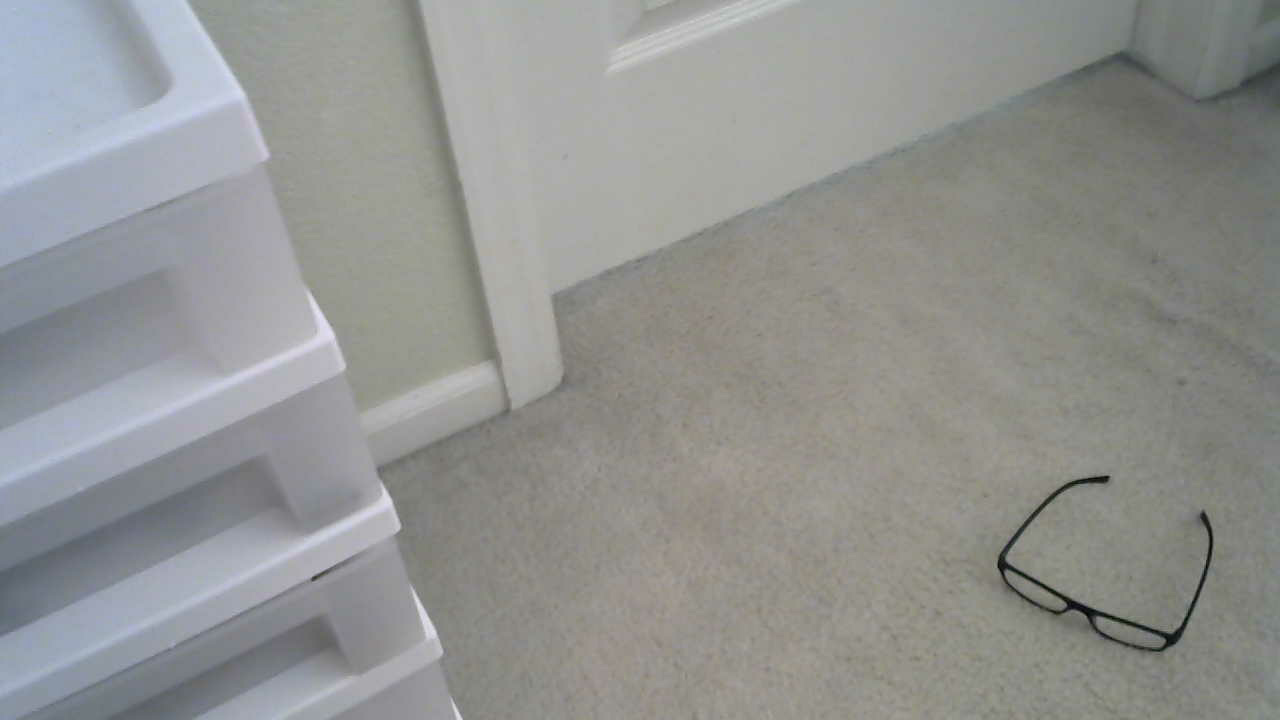Glasses: (988, 459, 1245, 668)
